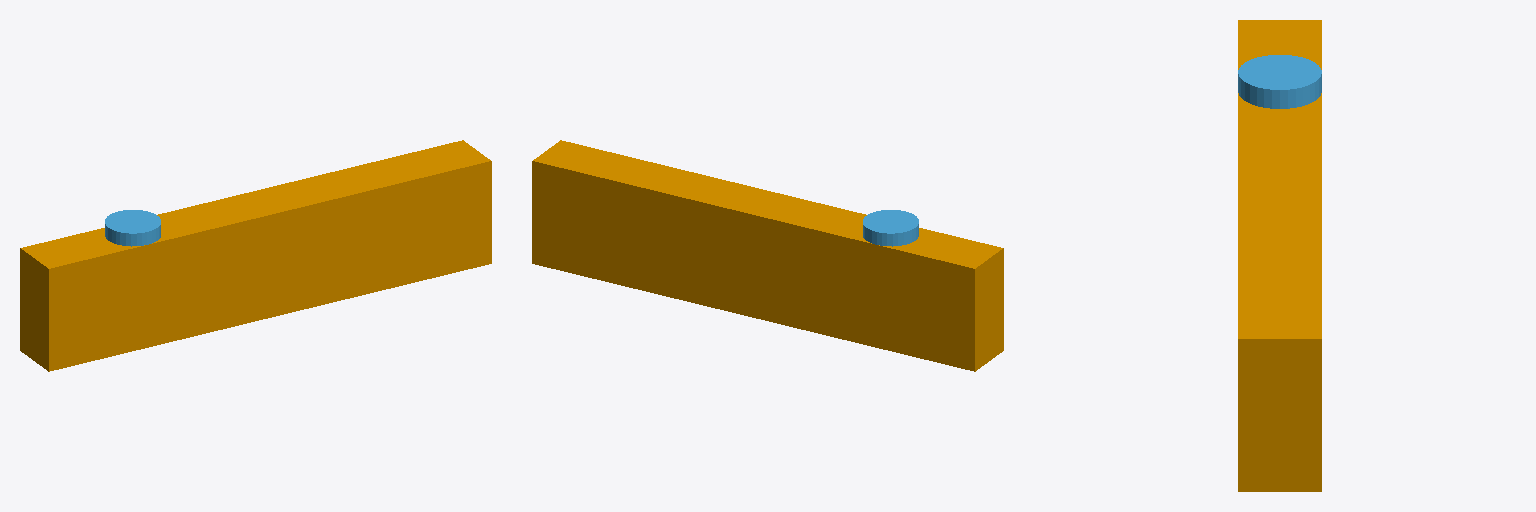
The robot description file, URDF, robot "xtion":
<?xml version="1.0"?>
<robot
  name="xtion">
  <link name="xtion">
    <visual>
      <geometry>
        <box size="0.18 0.02 0.04"/>
      </geometry>
        <origin xyz="0.05 0 -0.02"/>
    </visual>
    <collision>
      <geometry>
        <box size="0.18 0.02 0.04"/>
      </geometry>
        <origin xyz="0.05 0 -0.02"/>
    </collision>
    <inertial>
      <mass value="0.1"/>
      <inertia ixx="0.01" ixy="0.0" ixz="0.0" iyy="0.01" iyz="0.0" izz="0.01"/>
      <origin xyz="0 0 0"/>
    </inertial>
  </link>
  
  <!-- purely to indicate forward direction -->
  <link name="lens_visual">
    <visual>
      <geometry>
        <cylinder length="0.01" radius="0.01"/>
      </geometry>
    </visual>
  </link>
  <joint name="xtion_to_lens" type="fixed">
    <parent link="xtion"/>
    <child link="lens_visual"/>
    <origin rpy="0 0 0" xyz="0.0 0 0.0"/>
  </joint>

</robot>

--- Facts derived from the render (not from the file) ---
Views: 3 orthographic renders of the robot side by side, from view 1: azimuth 30°, elevation 25°; view 2: azimuth 150°, elevation 25°; view 3: azimuth 270°, elevation 25°.
Robot: xtion — 2 links, 1 joints (1 fixed); root link xtion; default pose: every joint at zero.
Links seen in each view (by area): view 1: xtion, lens_visual; view 2: xtion, lens_visual; view 3: xtion, lens_visual.
Link boxes in pixels (x1,y1,x2,y2): xtion: [20, 140, 491, 371]; lens_visual: [105, 210, 160, 246]; xtion: [532, 140, 1003, 371]; lens_visual: [863, 210, 918, 246]; xtion: [1238, 20, 1321, 491]; lens_visual: [1238, 55, 1321, 108].
Bounding box of the posed robot: 0.18 × 0.02 × 0.045 m (x, y, z).
Geometry: primitives only (box / cylinder / sphere), no mesh files.